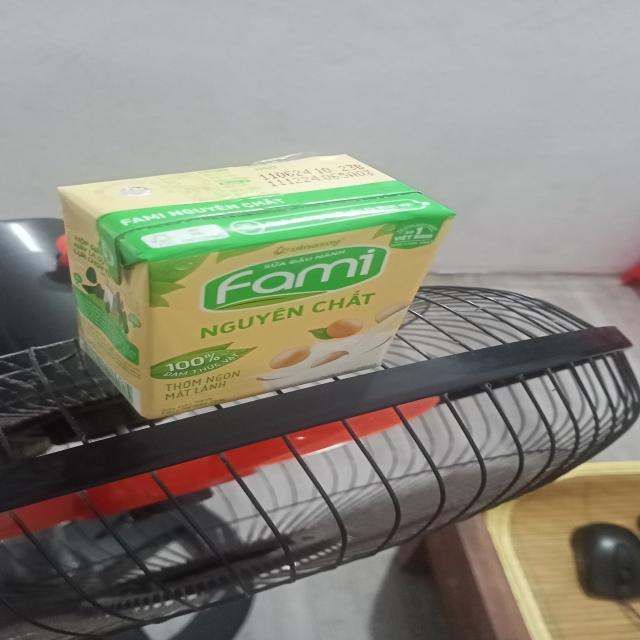Fami: (61, 154, 455, 424)
